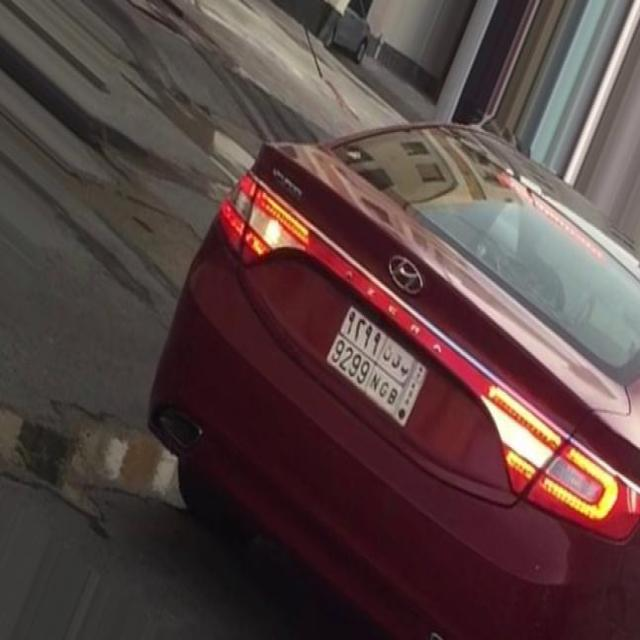Car-plate: (319, 286, 440, 443)
